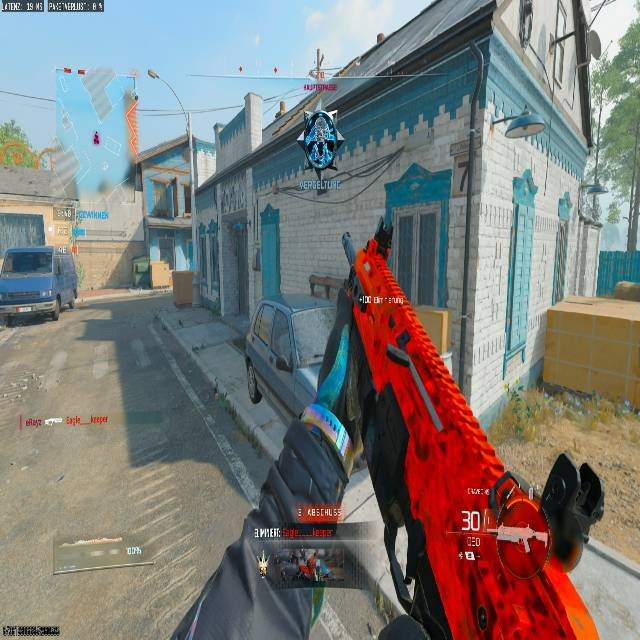player: (299, 105, 341, 174)
